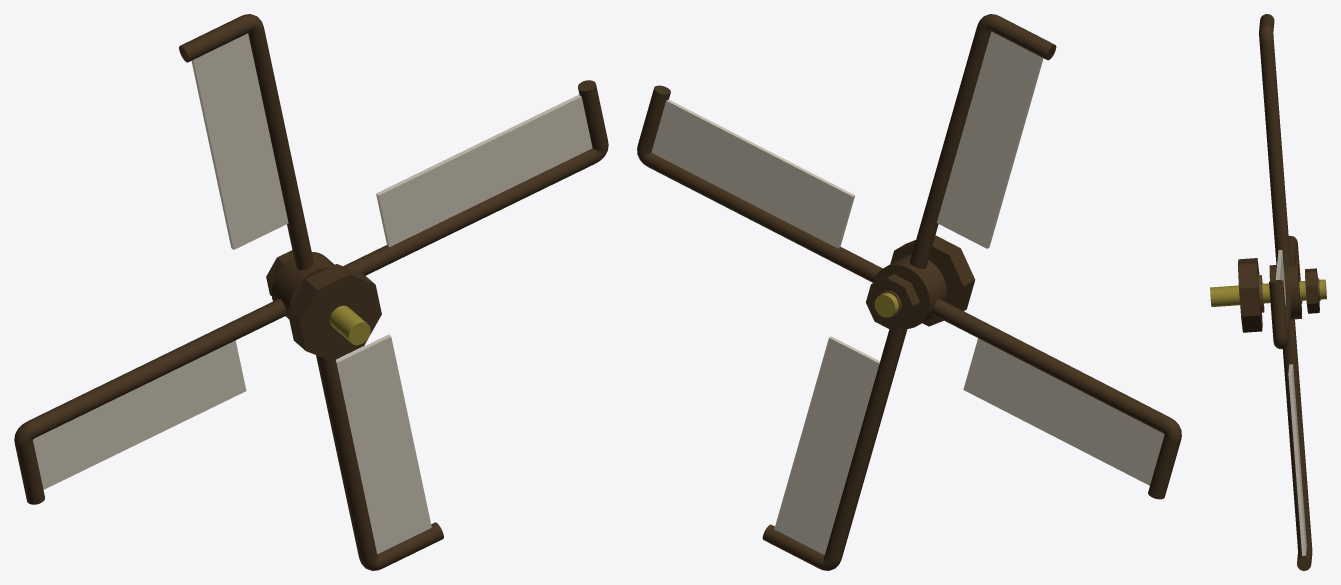
File: helice2.obj
3 views of the same model, side by side, from view 1: azimuth 30°, elevation 25°; view 2: azimuth 150°, elevation 25°; view 3: azimuth 270°, elevation 25° (orthographic). The views are drawn at different scales.
Visible parts, largest first — view 1: pCube6_polySurface31, pCube6_polySurface33, polySurface29_pCube6, pCube6_polySurface35, pCube6_polySurface36, pCube6_polySurface34, pCube6_polySurface32, pCube6_polySurface42, pCube6_polySurface30, pCube6_polySurface40, pCube6_polySurface37; view 2: pCube6_polySurface31, pCube6_polySurface33, polySurface29_pCube6, pCube6_polySurface35, pCube6_polySurface36, pCube6_polySurface30, pCube6_polySurface34, pCube6_polySurface32, pCube6_polySurface42, pCube6_polySurface40, pCube6_polySurface38; view 3: pCube6_polySurface34, pCube6_polySurface30, pCube6_polySurface42, pCube6_polySurface32, polySurface29_pCube6, pCube6_polySurface37, pCube6_polySurface40, pCube6_polySurface38, pCube6_polySurface36, pCube6_polySurface31.
Part boxes in pixels (left/top/right/bottom): pCube6_polySurface31: left=376, top=94, right=592, bottom=247; pCube6_polySurface33: left=191, top=33, right=288, bottom=249; polySurface29_pCube6: left=336, top=334, right=431, bottom=553; pCube6_polySurface35: left=33, top=340, right=246, bottom=489; pCube6_polySurface36: left=14, top=299, right=286, bottom=504; pCube6_polySurface34: left=179, top=14, right=313, bottom=269; pCube6_polySurface32: left=343, top=80, right=608, bottom=275; pCube6_polySurface42: left=287, top=264, right=381, bottom=361; pCube6_polySurface30: left=316, top=355, right=443, bottom=570; pCube6_polySurface40: left=271, top=252, right=334, bottom=318; pCube6_polySurface37: left=329, top=305, right=370, bottom=345; pCube6_polySurface31: left=651, top=99, right=854, bottom=248; pCube6_polySurface33: left=936, top=31, right=1043, bottom=248; polySurface29_pCube6: left=774, top=336, right=879, bottom=554; pCube6_polySurface35: left=963, top=338, right=1164, bottom=485; pCube6_polySurface36: left=931, top=299, right=1181, bottom=499; pCube6_polySurface30: left=762, top=328, right=907, bottom=570; pCube6_polySurface34: left=909, top=14, right=1056, bottom=269; pCube6_polySurface32: left=637, top=85, right=882, bottom=282; pCube6_polySurface42: left=890, top=235, right=975, bottom=326; pCube6_polySurface40: left=873, top=255, right=946, bottom=328; pCube6_polySurface38: left=866, top=274, right=919, bottom=330; pCube6_polySurface34: left=1259, top=14, right=1290, bottom=266; pCube6_polySurface30: left=1282, top=319, right=1312, bottom=570; pCube6_polySurface42: left=1238, top=258, right=1262, bottom=332; pCube6_polySurface32: left=1269, top=280, right=1292, bottom=348; polySurface29_pCube6: left=1288, top=364, right=1306, bottom=555; pCube6_polySurface37: left=1210, top=279, right=1326, bottom=306; pCube6_polySurface40: left=1269, top=263, right=1301, bottom=319; pCube6_polySurface38: left=1305, top=268, right=1319, bottom=313; pCube6_polySurface36: left=1288, top=235, right=1302, bottom=303; pCube6_polySurface31: left=1275, top=250, right=1285, bottom=305.
Size of the model in its own units: 15.18 by 15.14 by 3.38.
